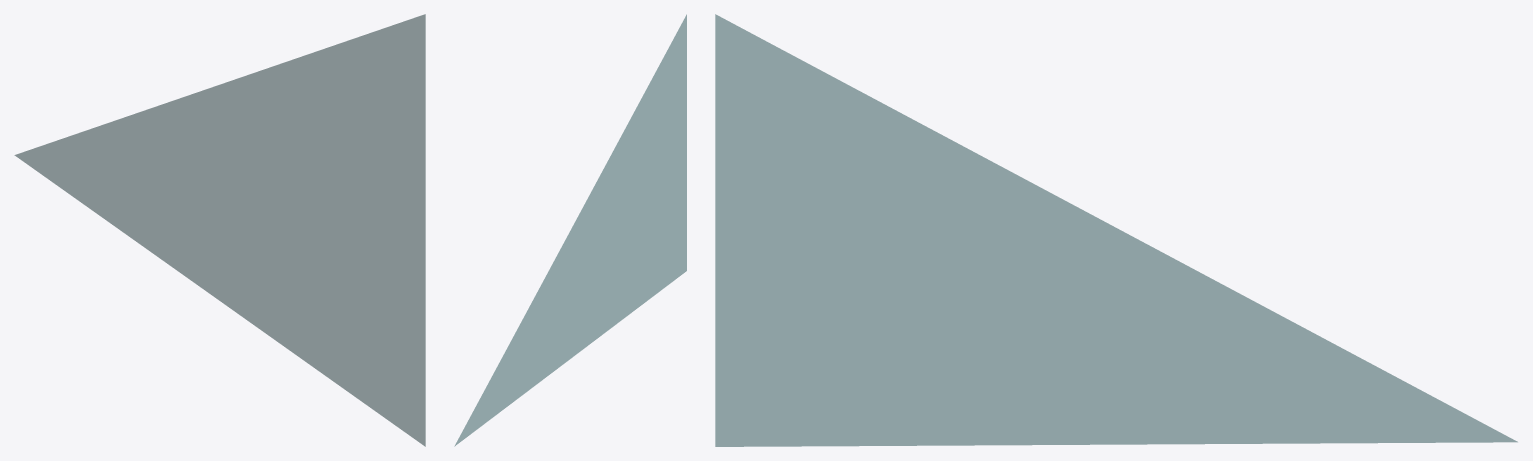
3 renders of one model, left to right at view 1: azimuth 30°, elevation 25°; view 2: azimuth 150°, elevation 25°; view 3: azimuth 270°, elevation 25°, orthographic. The views are drawn at different scales.
Parts seen in each view (by area): view 1: B-E-GABLE-R; view 2: B-E-GABLE-R; view 3: B-E-GABLE-R.
Boxes of the visible parts, x1,y1,x2,y2 form: B-E-GABLE-R: (14, 14, 425, 446); B-E-GABLE-R: (454, 14, 686, 446); B-E-GABLE-R: (715, 14, 1517, 446).
Size of the model in its own units: 0.0395 by 1.72 by 2.89.
